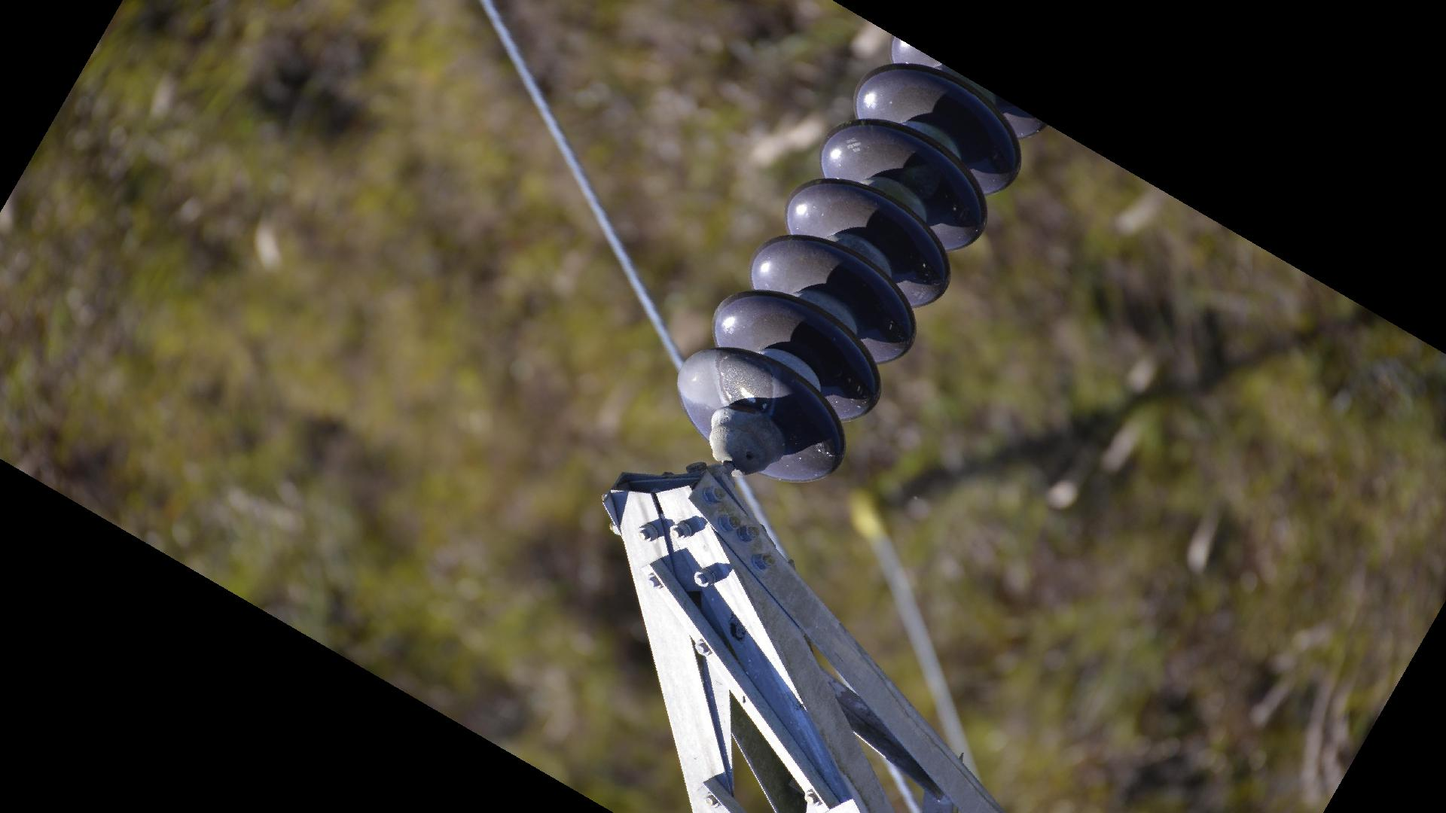insulator: (670, 34, 1051, 493)
insulator_flashover: (713, 349, 776, 419)
